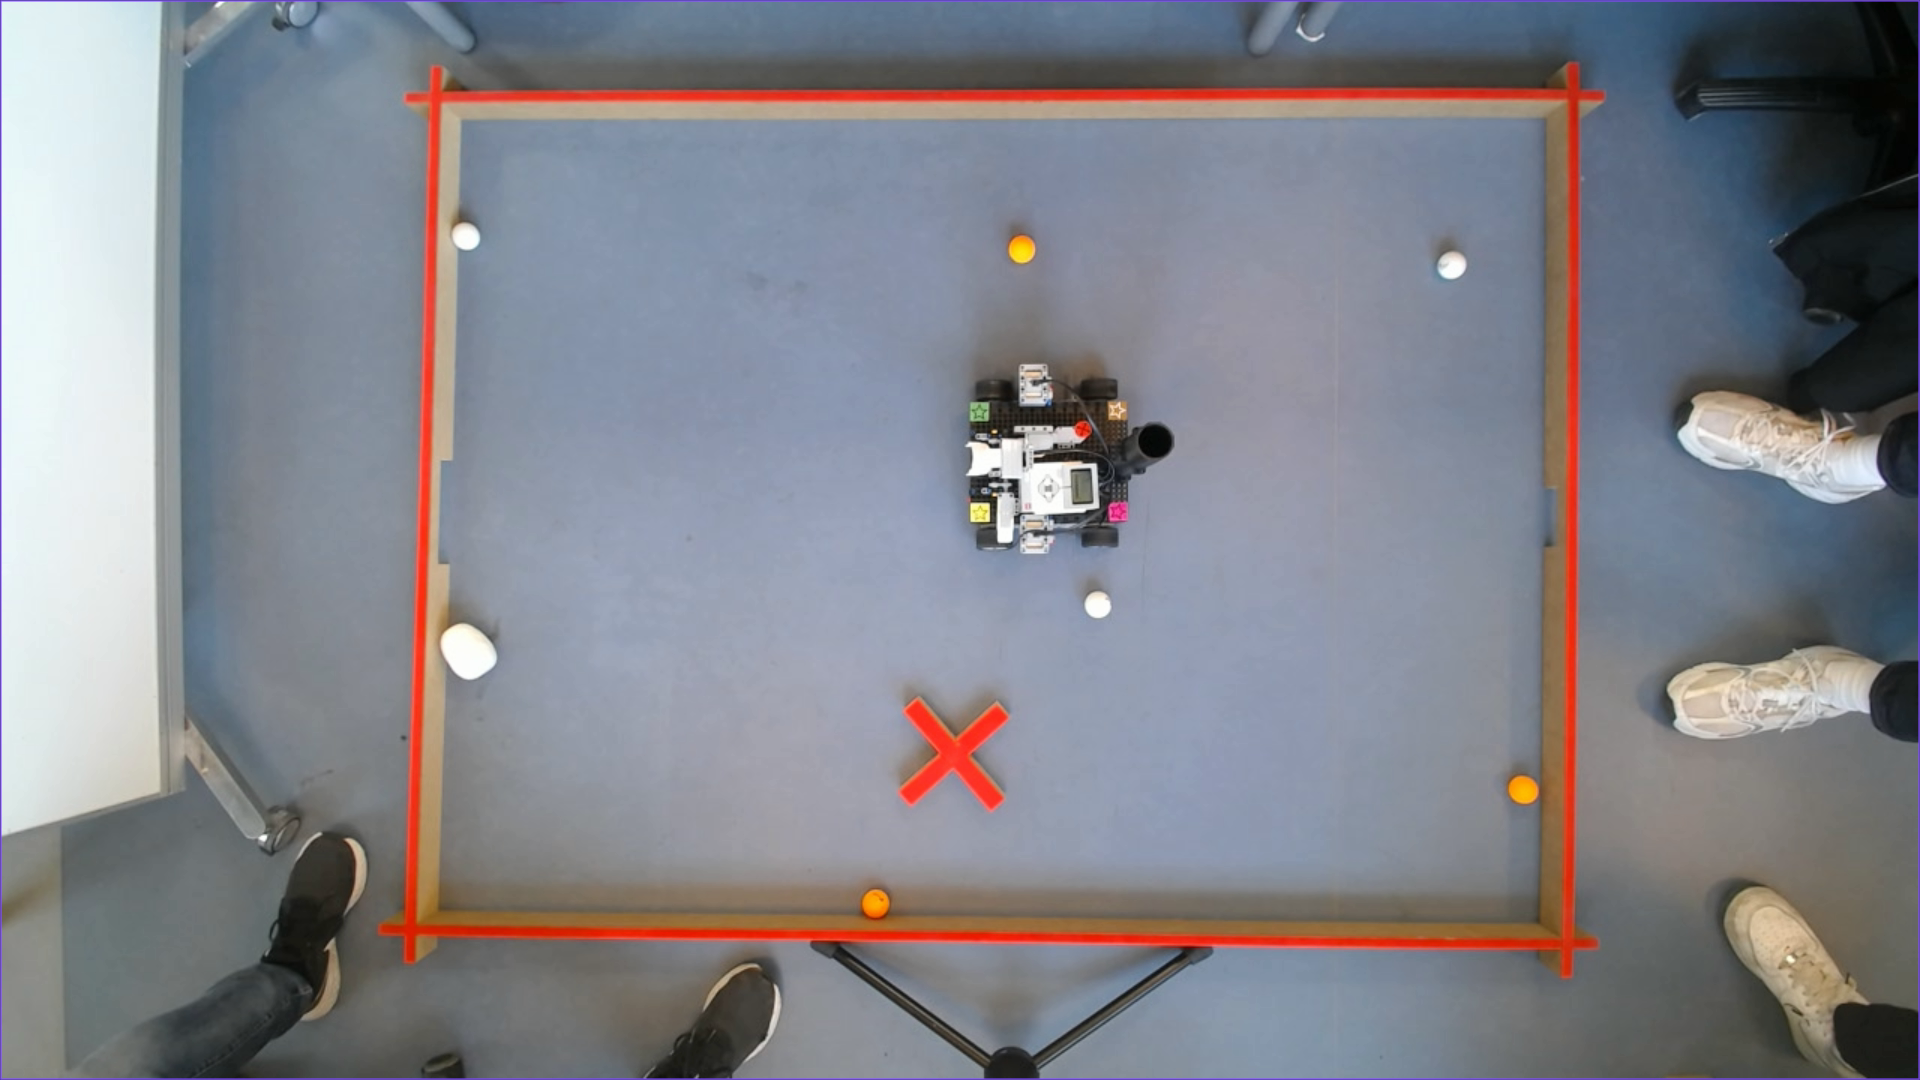ball_orange: (1507, 775, 1540, 803), (1007, 235, 1036, 265), (861, 887, 889, 919)
ball_white: (1437, 251, 1466, 281), (452, 222, 480, 252), (1084, 591, 1112, 618)
corner_brown: (1108, 400, 1127, 421)
corner_green: (969, 402, 990, 423)
corner_pink: (1108, 501, 1129, 522)
corner_yellow: (971, 502, 992, 524)
cross: (899, 696, 1007, 811)
egg: (435, 621, 498, 680)
playfield: (396, 86, 1581, 953)
